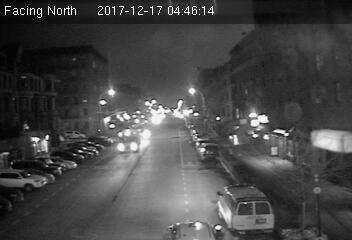police: (216, 181, 276, 238)
